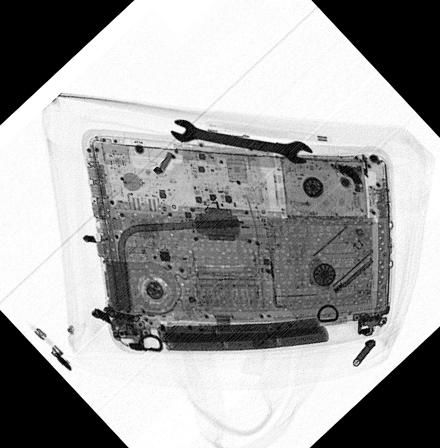Wrench: (167, 118, 315, 166)
